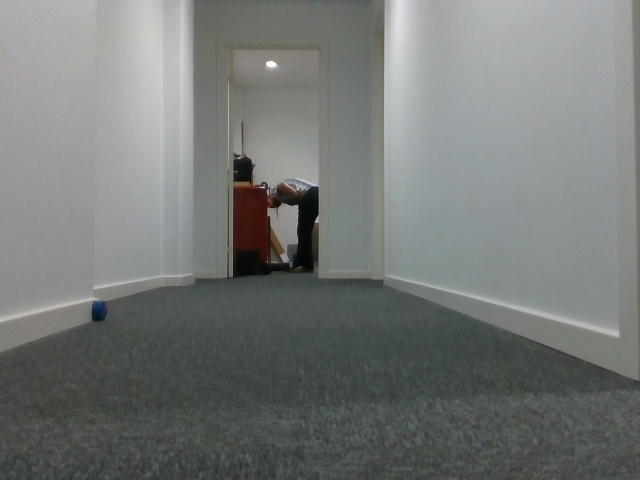alfa: (91, 298, 108, 322)
